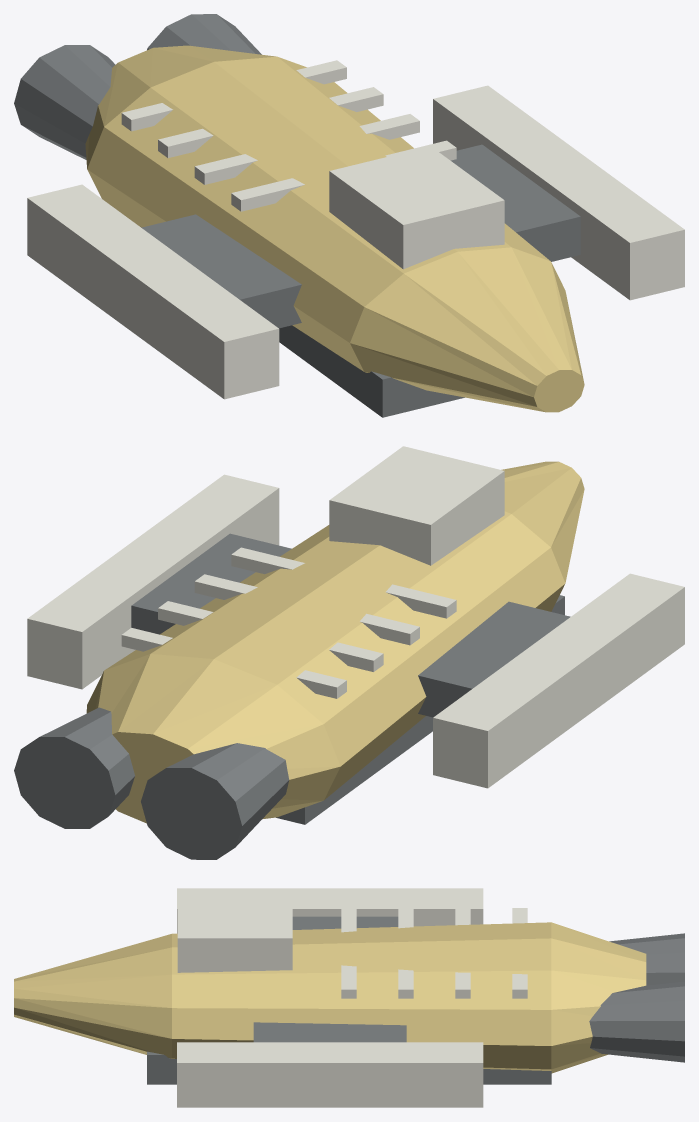
3 views of the same model, one above another, from view 1: azimuth 30°, elevation 25°; view 2: azimuth 150°, elevation 25°; view 3: azimuth 270°, elevation 25° (orthographic). The views are drawn at different scales.
Size of the model in its own units: 4.84 by 1.79 by 7.84.
